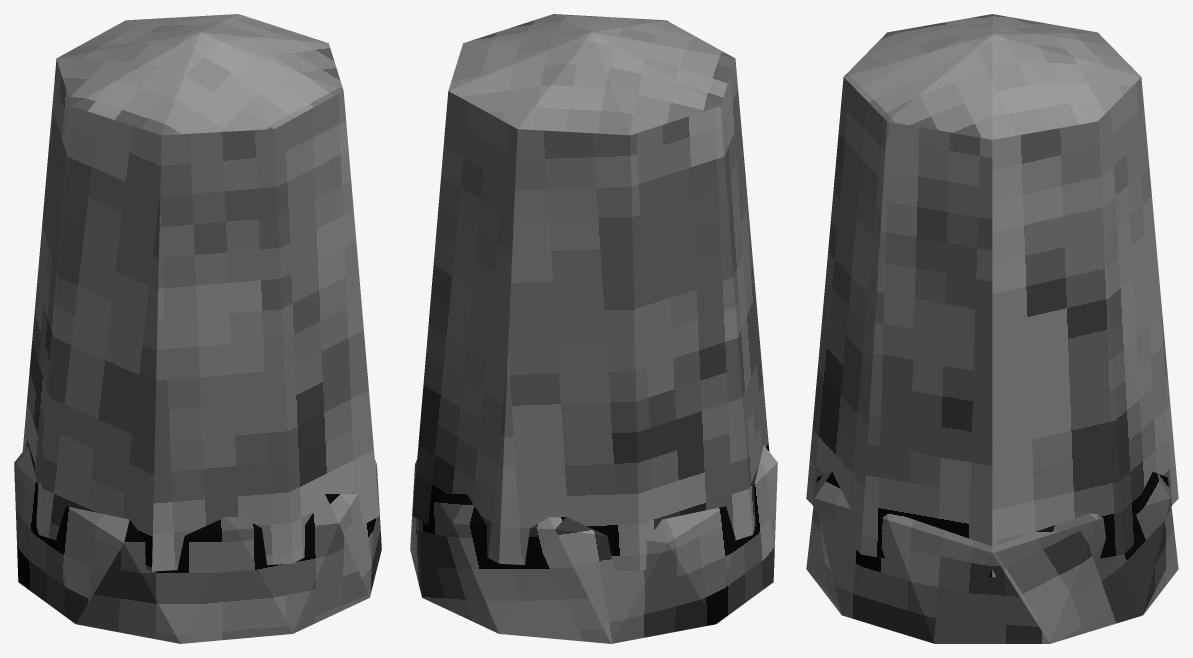
The model's file is drone_thruster.glb.
3 views of the same model, side by side, from view 1: azimuth 30°, elevation 25°; view 2: azimuth 150°, elevation 25°; view 3: azimuth 270°, elevation 25° (orthographic).
Parts seen in each view (by area): view 1: Icosphere; view 2: Icosphere; view 3: Icosphere.
Part boxes in pixels (left/top/right/bottom): Icosphere: left=14, top=14, right=381, bottom=643; Icosphere: left=410, top=14, right=777, bottom=643; Icosphere: left=806, top=14, right=1178, bottom=643.
Size of the model in its own units: 0.2407 by 0.38 by 0.24.
Materials: 1 (1 with a texture image).
